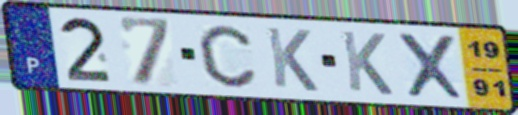2: (58, 15, 114, 83)
7: (118, 15, 175, 89)
C: (195, 23, 259, 90)
K: (338, 28, 396, 98), (263, 24, 321, 94)
X: (394, 30, 469, 103)
